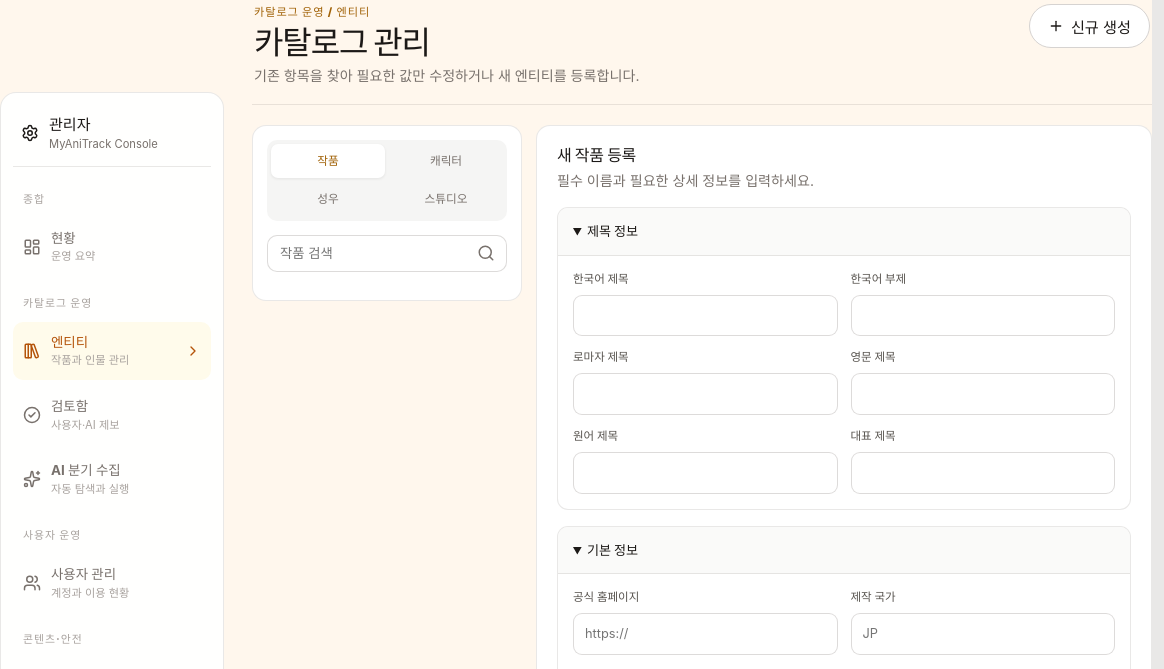
Test: admin console › loads the complete ANIME source record after selecting a search result
In the search field with placeholder "작품 검색": (367, 253) [268, 236, 466, 271], type "원본 작품"
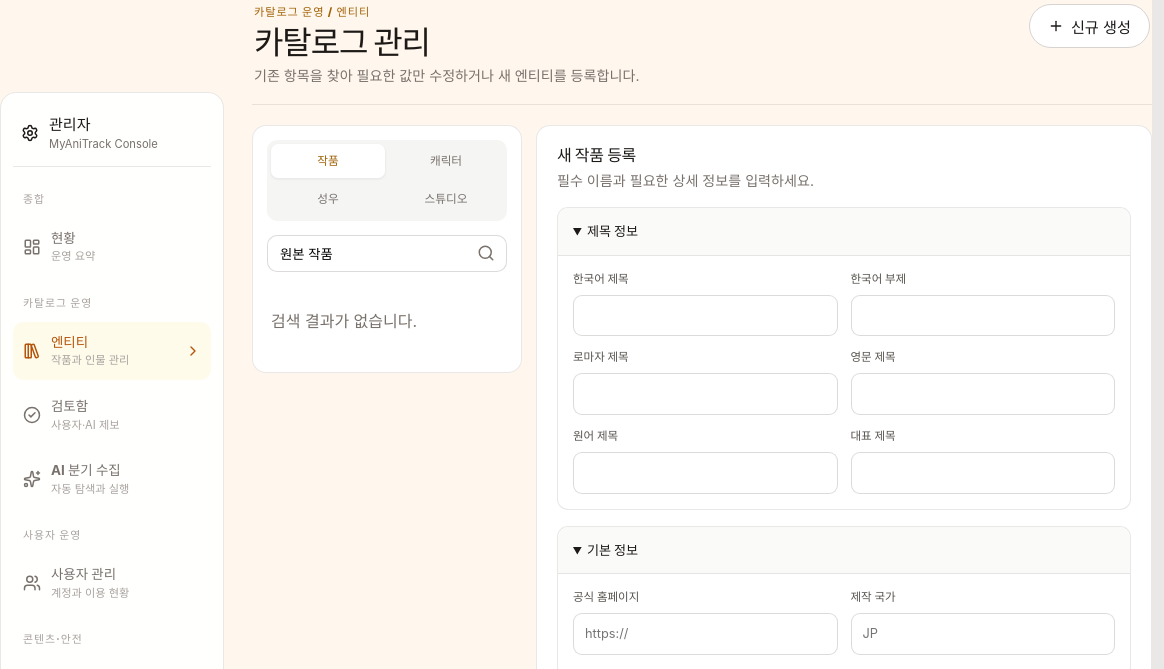
Click the button named "검색": (486, 253) [466, 236, 506, 271]
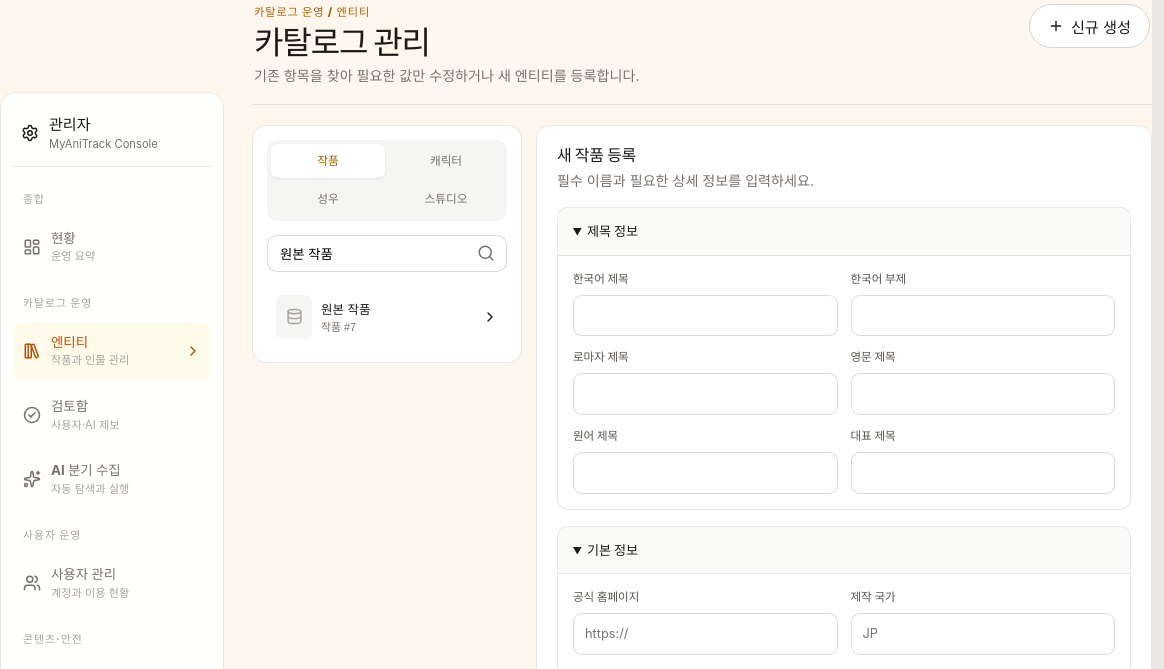
Click the button "원본 작품 작품 #7": (387, 317) [267, 286, 507, 348]
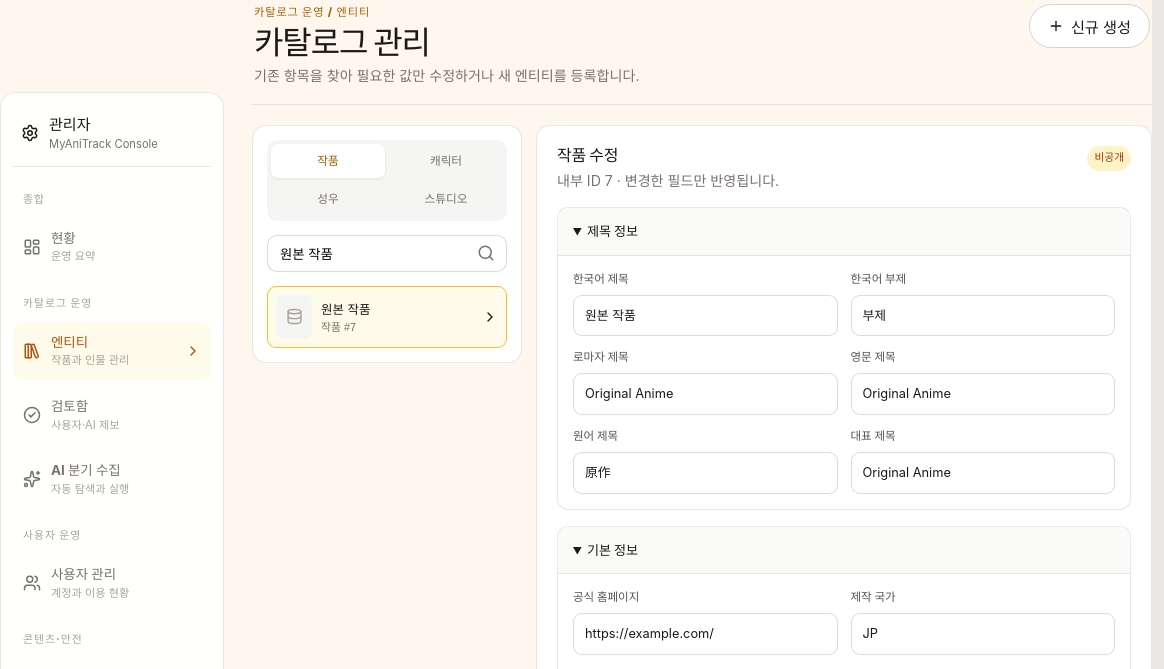
Now the text "내부 ID 7 · 변경한 필드만 반영됩니다." is shown, box [557, 170, 779, 191]
